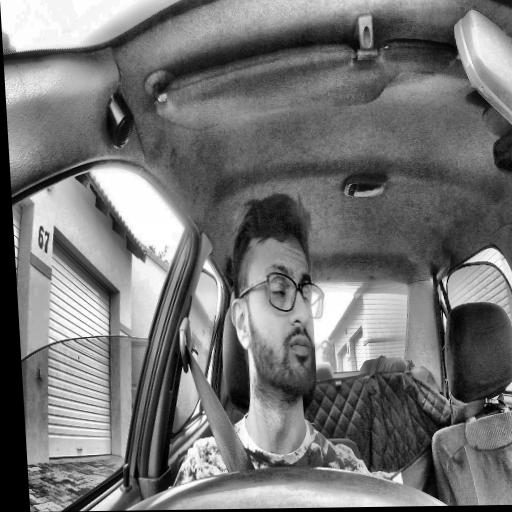drowsy: (224, 193, 331, 399)
